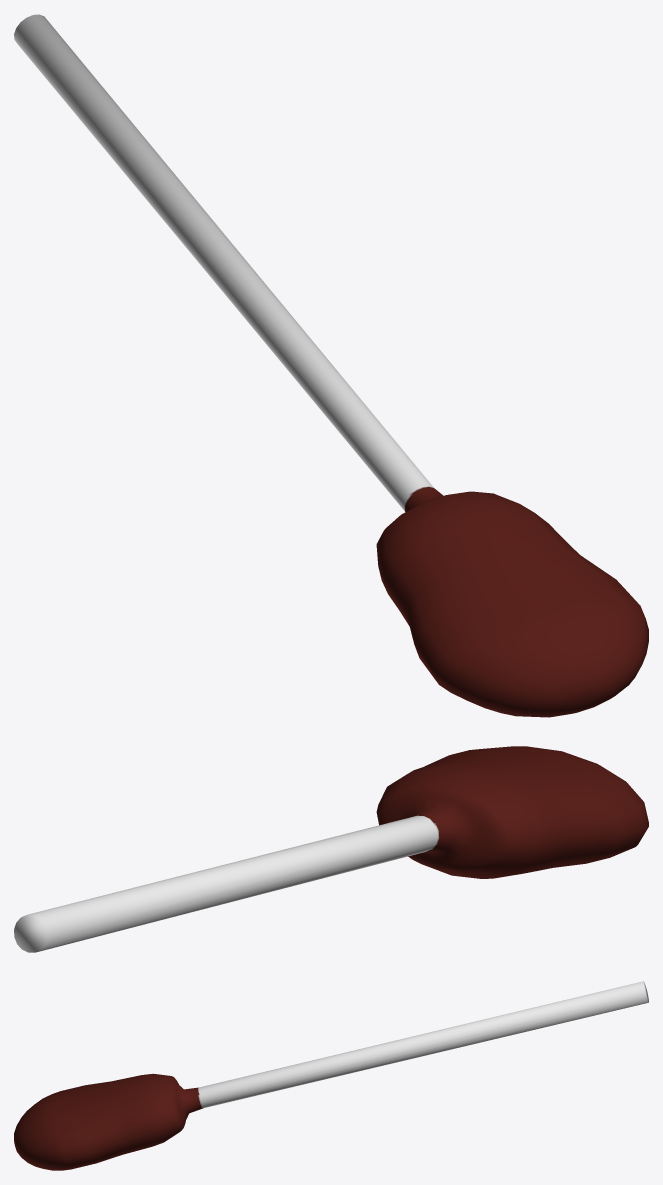
Rendered from 6. Swabsticks2.glb.
3 renders of one model, top to bottom at view 1: azimuth 30°, elevation 25°; view 2: azimuth 150°, elevation 25°; view 3: azimuth 270°, elevation 25°, orthographic. The views are drawn at different scales.
Parts seen in each view (by area): view 1: Swabsticks.002; view 2: Swabsticks.002; view 3: Swabsticks.002.
Part boxes in pixels (x1,y1,x2,y2): Swabsticks.002: [14, 14, 648, 717]; Swabsticks.002: [14, 746, 648, 952]; Swabsticks.002: [14, 981, 648, 1170].
Bounding box in the file's own units: 0.017 × 0.0237 × 0.077.
1 material, 1 textured.
